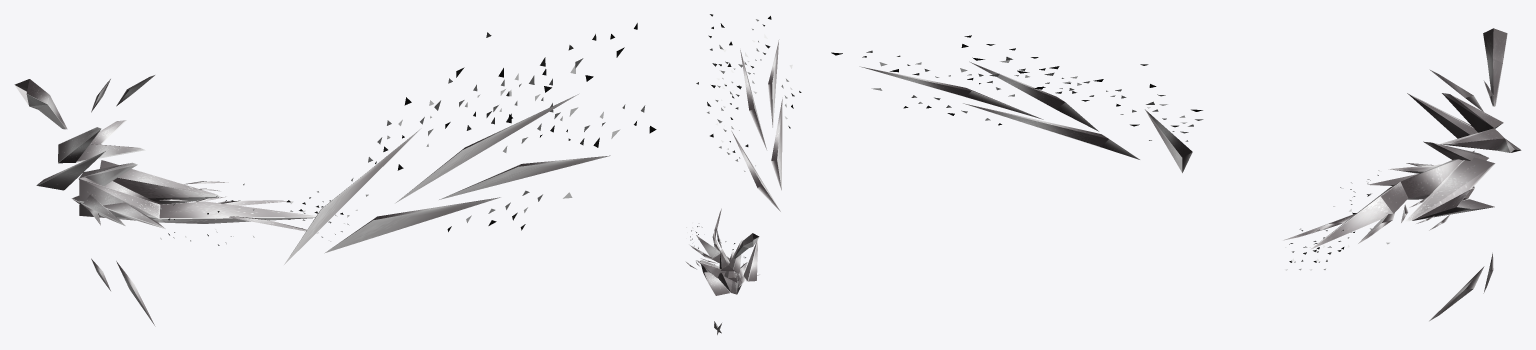
3 views of the same model, side by side, from view 1: azimuth 30°, elevation 25°; view 2: azimuth 150°, elevation 25°; view 3: azimuth 270°, elevation 25° (orthographic). The views are drawn at different scales.
Parts seen in each view (by area): view 1: B_0057_2a_0, B_0057_2a_1; view 2: B_0057_2a_0, B_0057_2a_1; view 3: B_0057_2a_0, B_0057_2a_1.
Part boxes in pixels (x1=…): B_0057_2a_0: x1=14, y1=75, x2=610, y2=326; B_0057_2a_1: x1=160, y1=23, x2=656, y2=245; B_0057_2a_0: x1=685, y1=39, x2=782, y2=334; B_0057_2a_1: x1=686, y1=14, x2=801, y2=257; B_0057_2a_0: x1=859, y1=28, x2=1521, y2=321; B_0057_2a_1: x1=831, y1=35, x2=1389, y2=270.
Size of the model in its own units: 17.39 by 19.18 by 29.29.
Materials: 2 (2 with a texture image).
